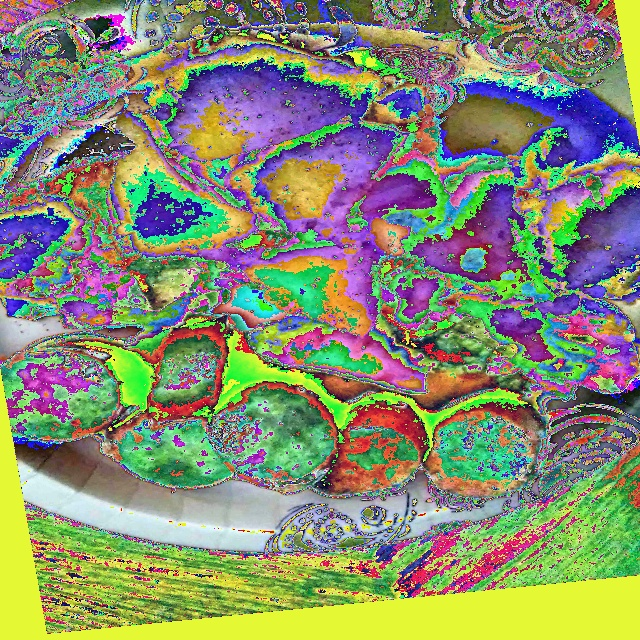background: (0, 35, 640, 499)
